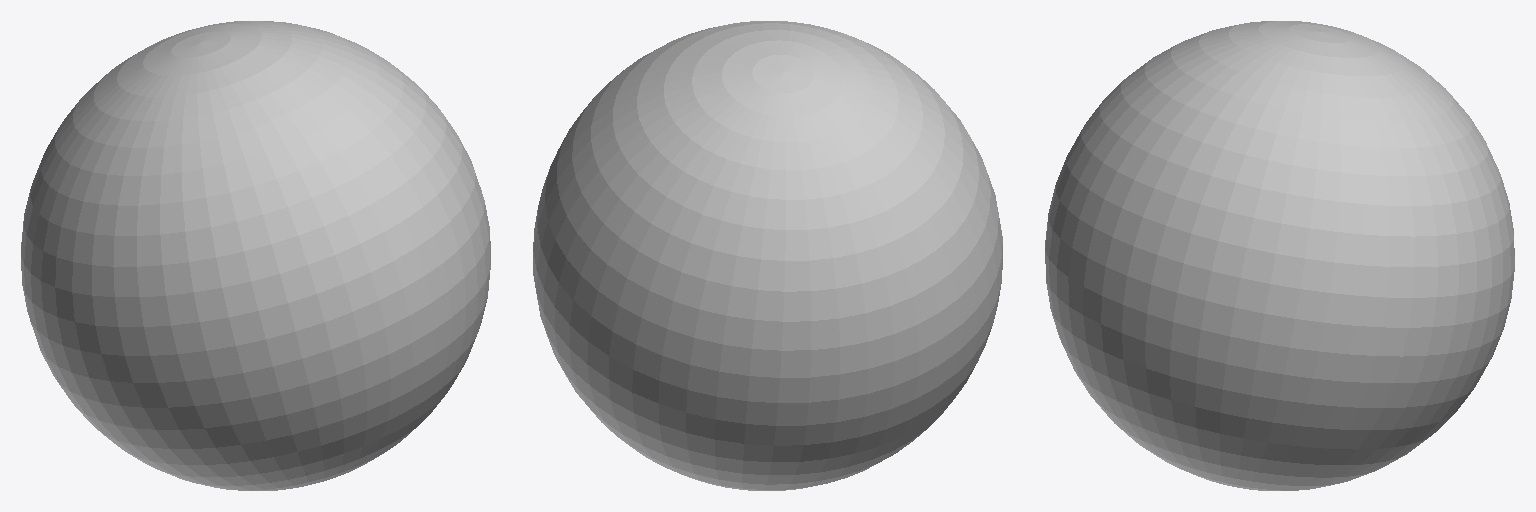
File: ball5.obj
3 renders of one model, left to right at view 1: azimuth 30°, elevation 25°; view 2: azimuth 150°, elevation 25°; view 3: azimuth 270°, elevation 25°, orthographic.
Parts seen in each view (by area): view 1: 球体.5; view 2: 球体.5; view 3: 球体.5.
Part boxes in pixels (bbox=[...]): 球体.5: bbox=[21, 21, 490, 490]; 球体.5: bbox=[533, 21, 1002, 490]; 球体.5: bbox=[1045, 21, 1514, 490].
Bounding box in the file's own units: 77.85 × 77.96 × 77.75.